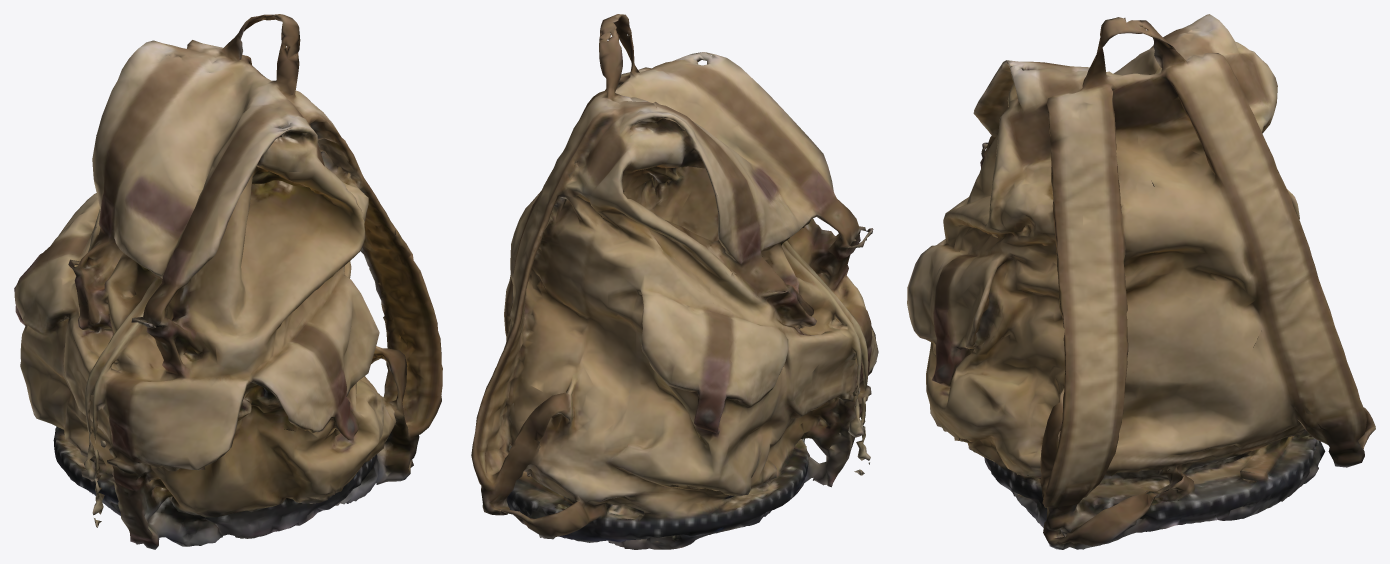
Rendered from backpack.glb.
3 views of the same model, side by side, from view 1: azimuth 30°, elevation 25°; view 2: azimuth 150°, elevation 25°; view 3: azimuth 270°, elevation 25° (orthographic). The views are drawn at different scales.
Parts seen in each view (by area): view 1: backpack; view 2: backpack; view 3: backpack.
Boxes of the visible parts, box(x1,y1,x2,y2) form: backpack: box(14, 14, 442, 549); backpack: box(471, 14, 878, 549); backpack: box(907, 14, 1375, 549).
Bounding box in the file's own units: 0.3953 × 0.5201 × 0.4327.
Materials: 1 (1 with a texture image).
